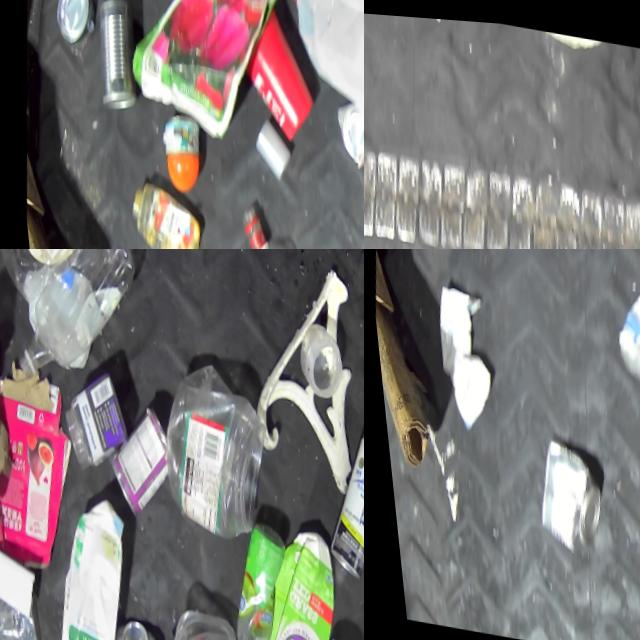can: (516, 441, 596, 571), (74, 0, 157, 114), (312, 410, 364, 580), (97, 406, 172, 515)
milk_jug: (273, 0, 364, 121)
non_white_jug: (230, 524, 344, 640)
plastic_bottle: (1, 249, 140, 398), (0, 249, 122, 310), (594, 249, 640, 395)
